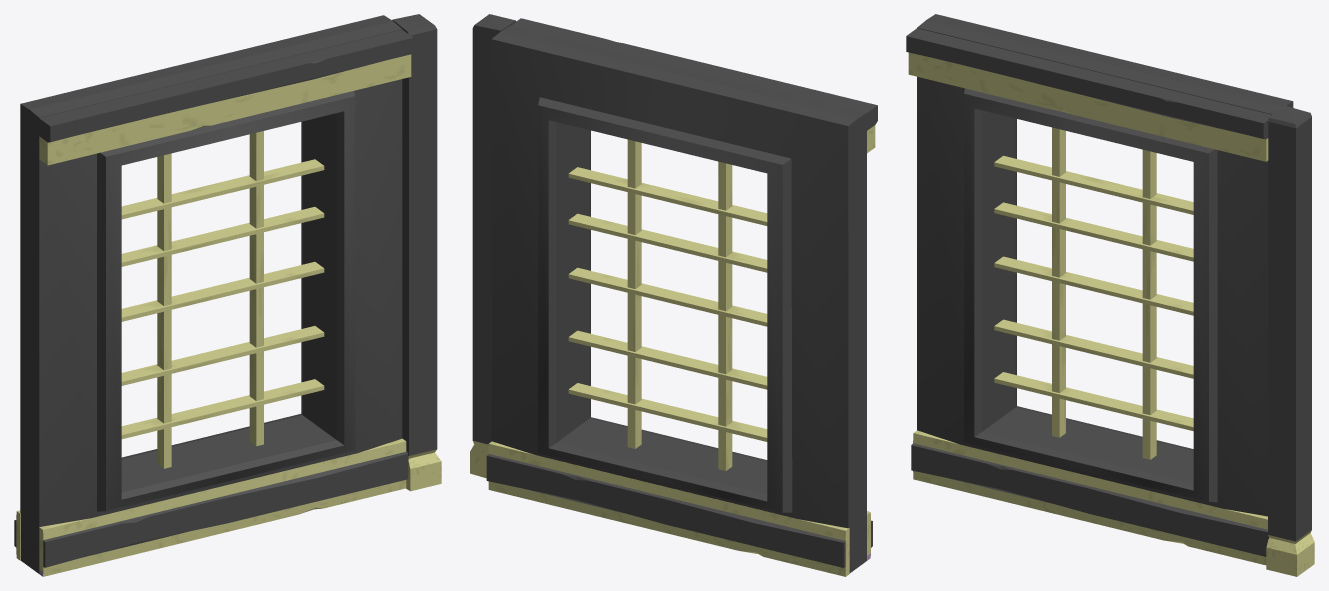
File: Wall_Window_02_Pillar.fbx
3 views of the same model, side by side, from view 1: azimuth 30°, elevation 25°; view 2: azimuth 150°, elevation 25°; view 3: azimuth 330°, elevation 25° (orthographic).
Visible parts, largest first — view 1: SM_Bld_Wall_Trim_09; view 2: SM_Bld_Wall_Trim_09; view 3: SM_Bld_Wall_Trim_09.
Part boxes in pixels (<box>): SM_Bld_Wall_Trim_09: <box>14,14,441,576</box>; SM_Bld_Wall_Trim_09: <box>470,14,877,576</box>; SM_Bld_Wall_Trim_09: <box>906,14,1314,576</box>.
Size of the model in its own units: 271 by 302 by 51.53.
